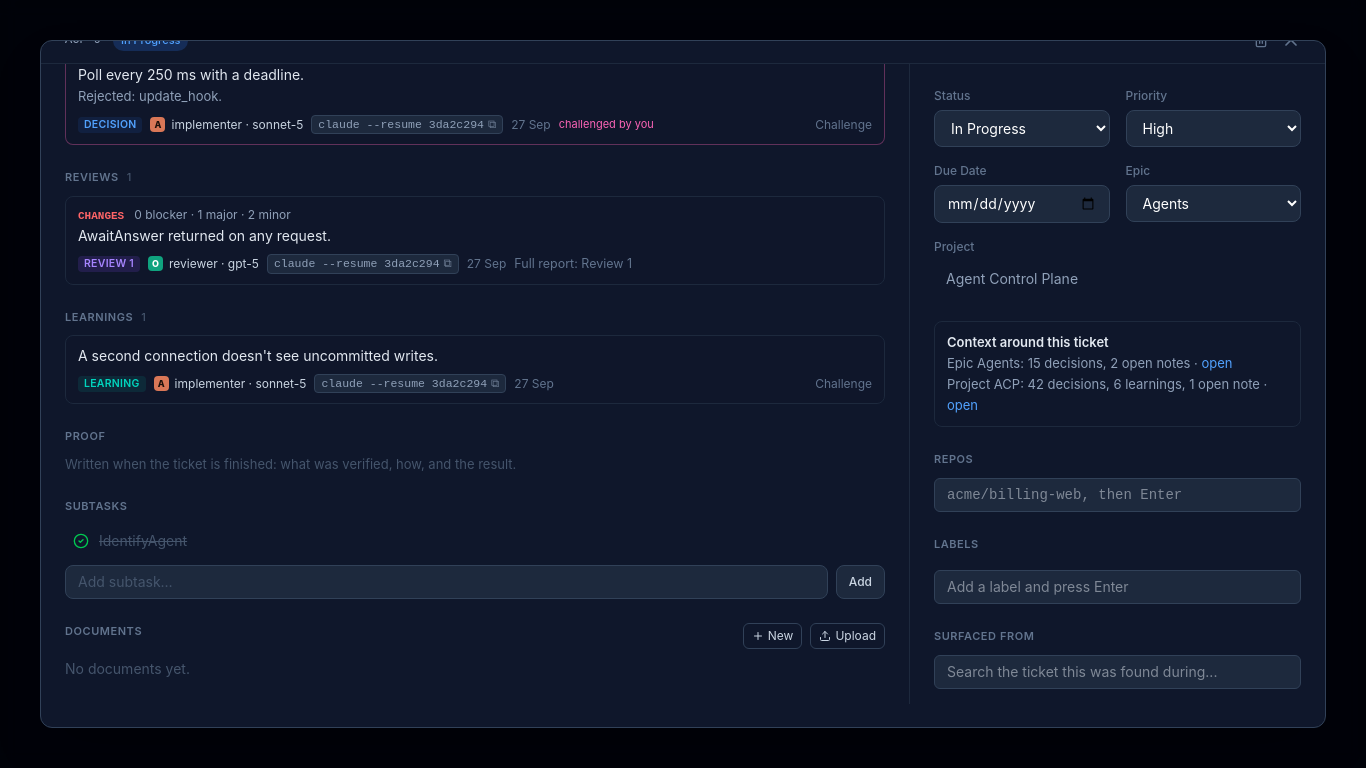
the ticket page's entries › challenges an entry: the box points at it, and the note carries it
(page scrolled)
Click the 2nd button "Challenge".
click(844, 384)  # box 815,376 -> 872,392
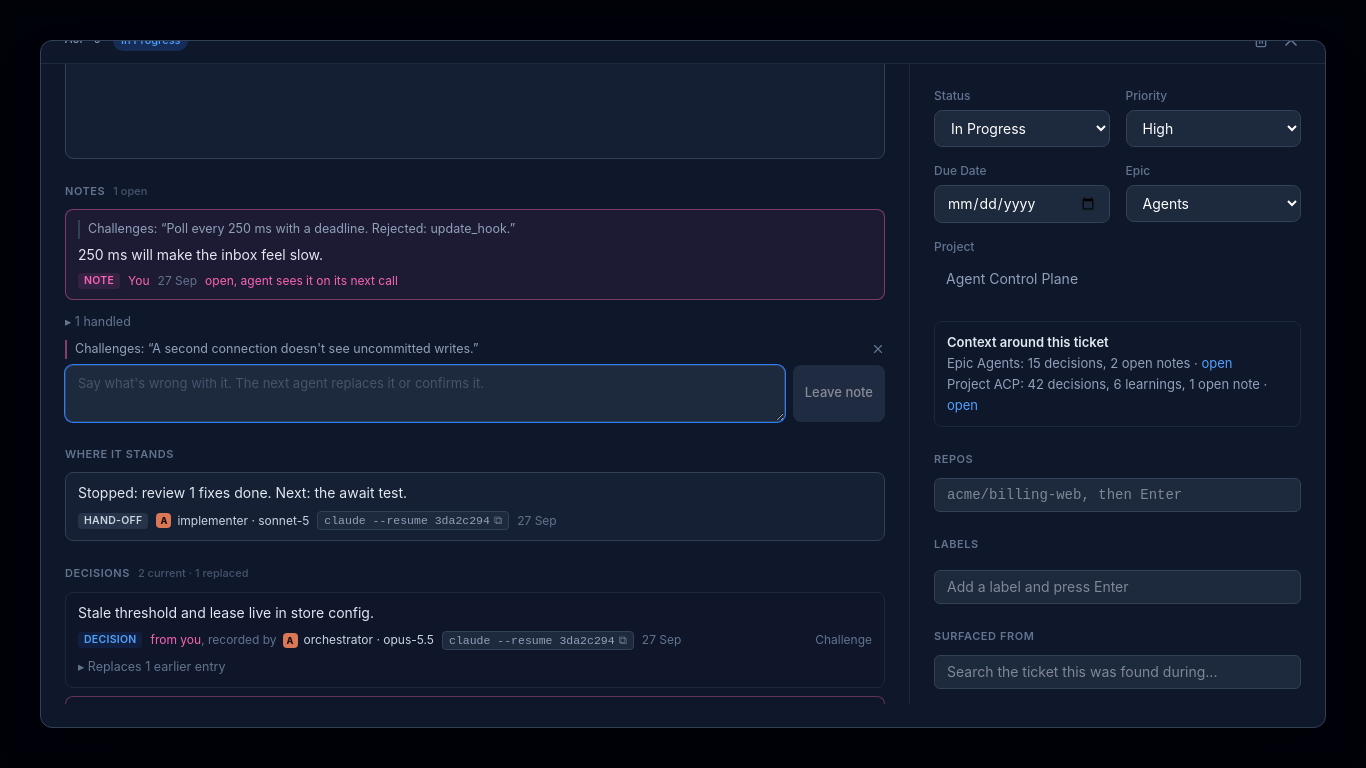
Now the element with test id "note-about" shows "A second connection doesn't see uncommitted writes.", box 152,341 -> 473,356
Replace the text in the text box named "Note" with "It does with WAL." at (425, 393), box 65,364 -> 785,422
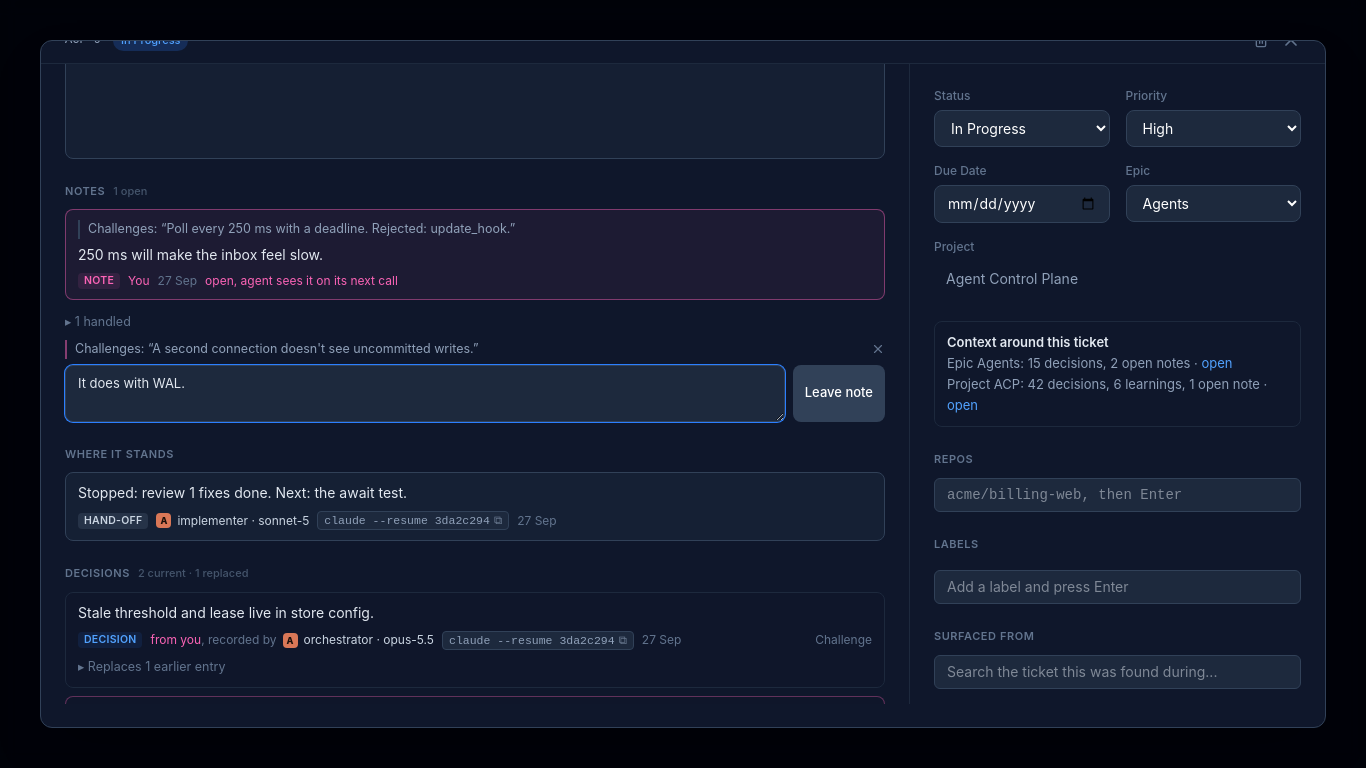
Submit the form, box 65,364 -> 885,422
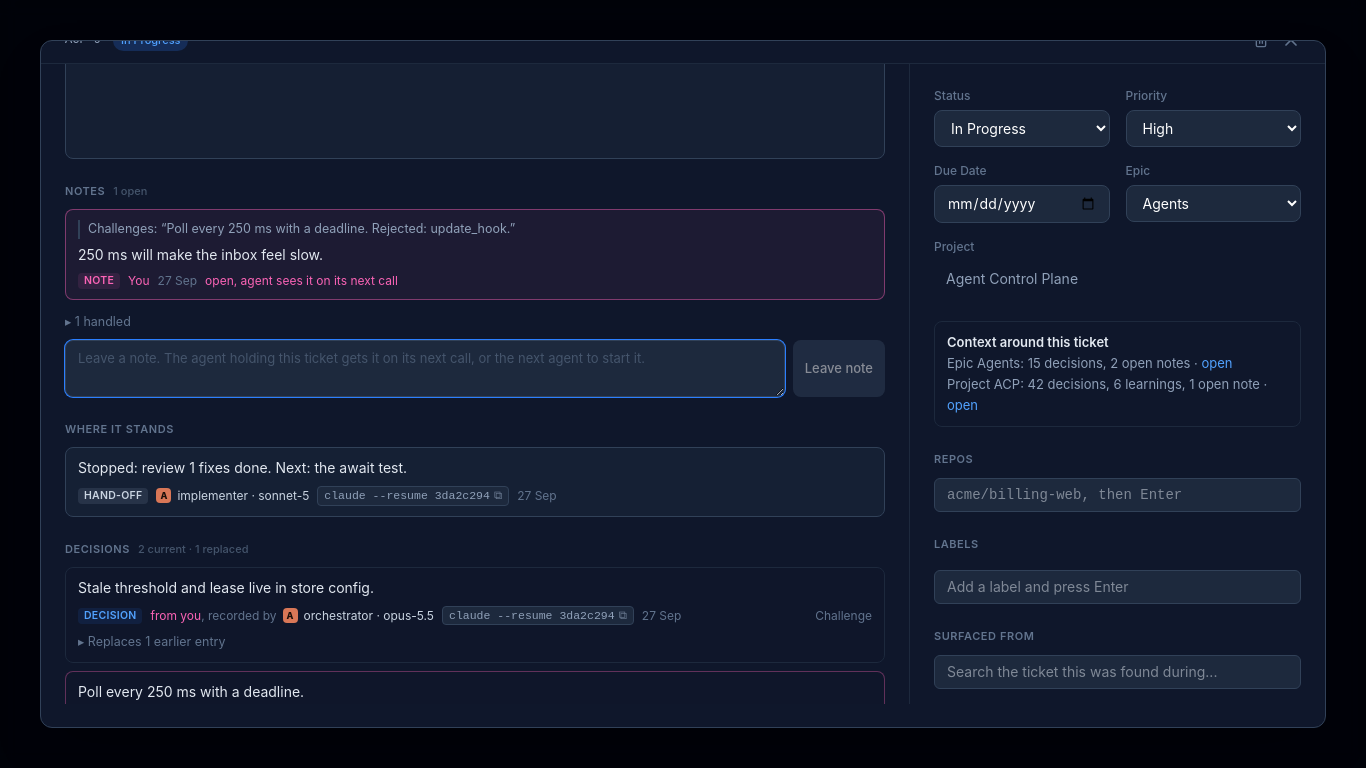
Now the element with test id "note-about" is gone
